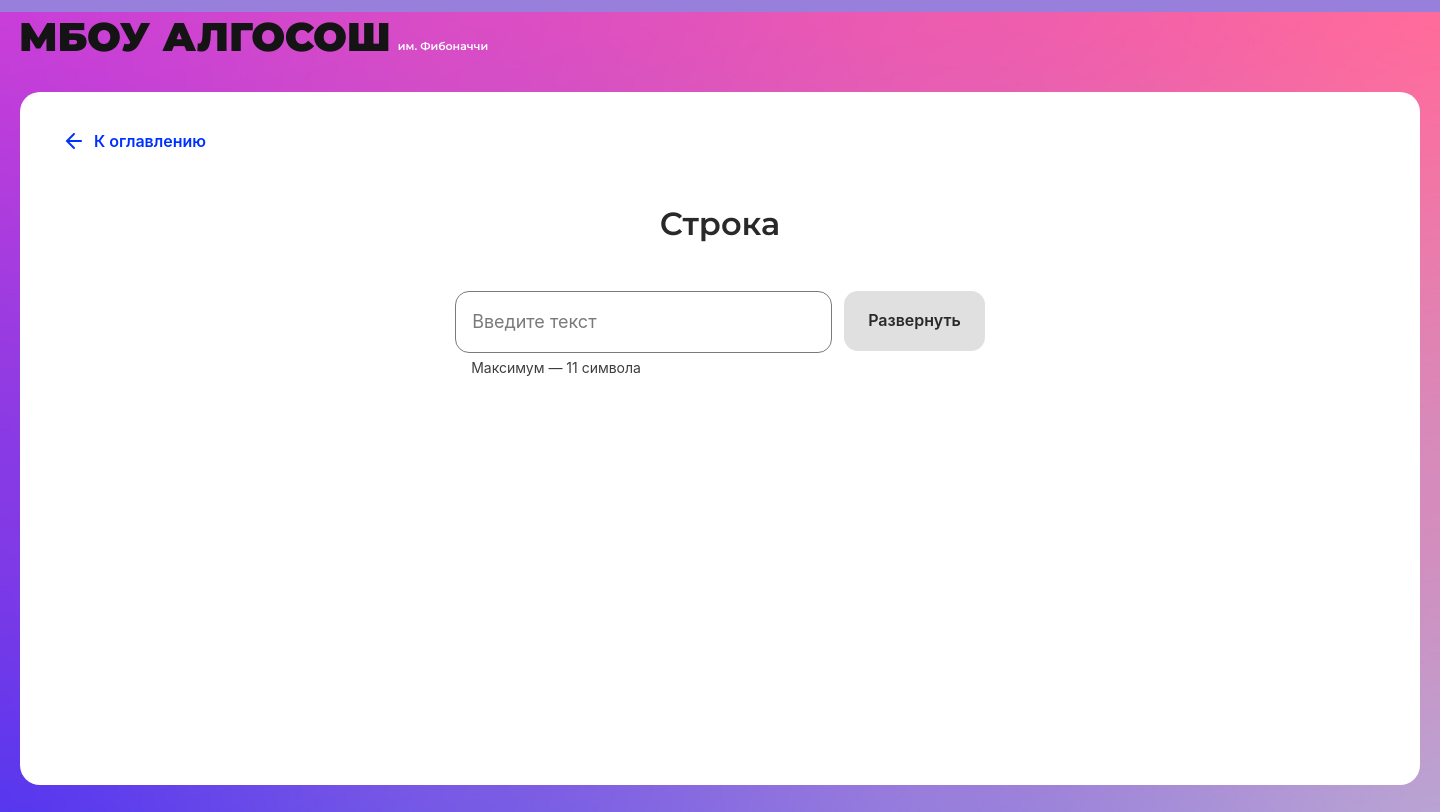
Test case: reverse string › reverse string
In the field with placeholder "Введите текст": (644, 322) [455,291,832,353], type "Aprel"
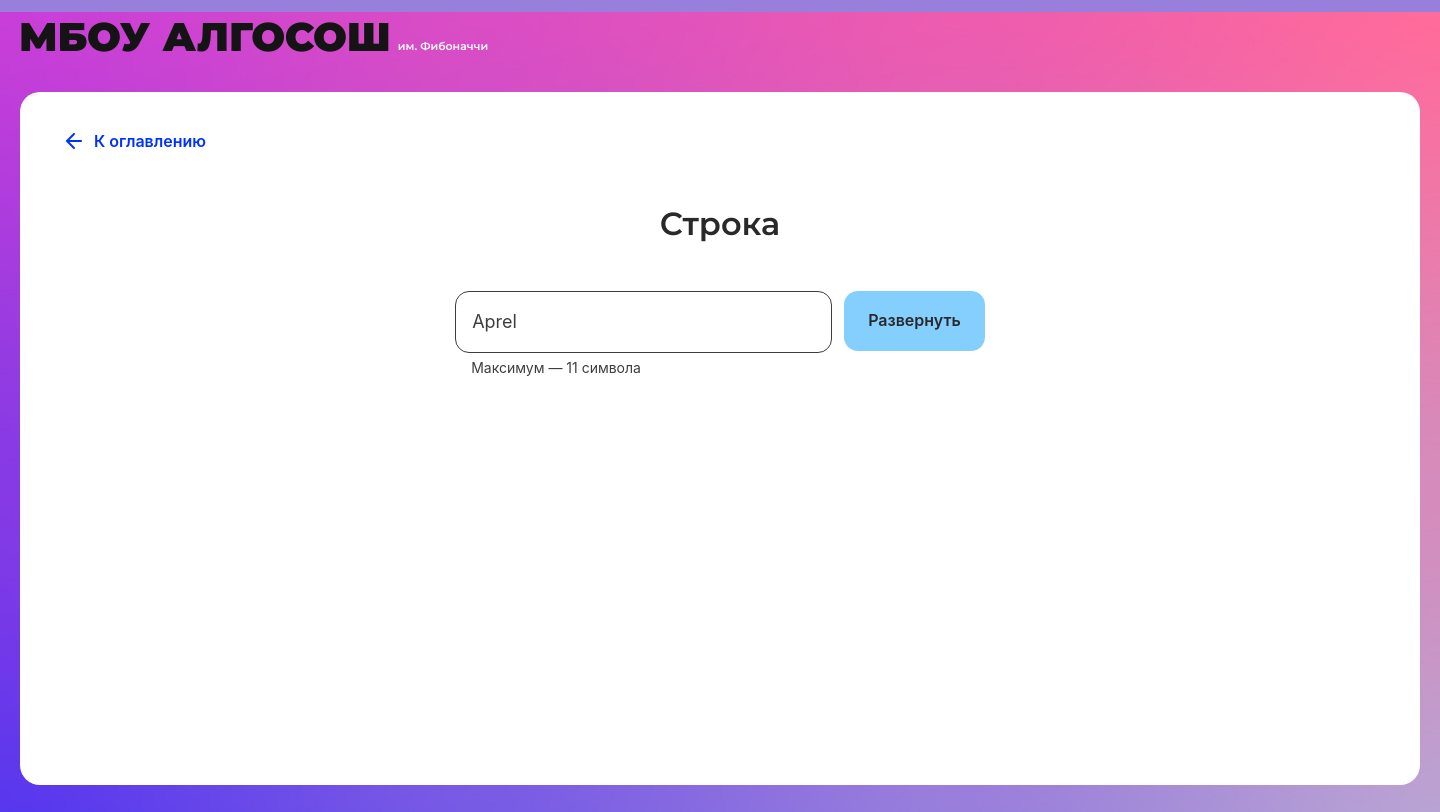
Now the button with test id "reverse" is enabled
Click the button with test id "reverse": (915, 321) [844,291,985,351]
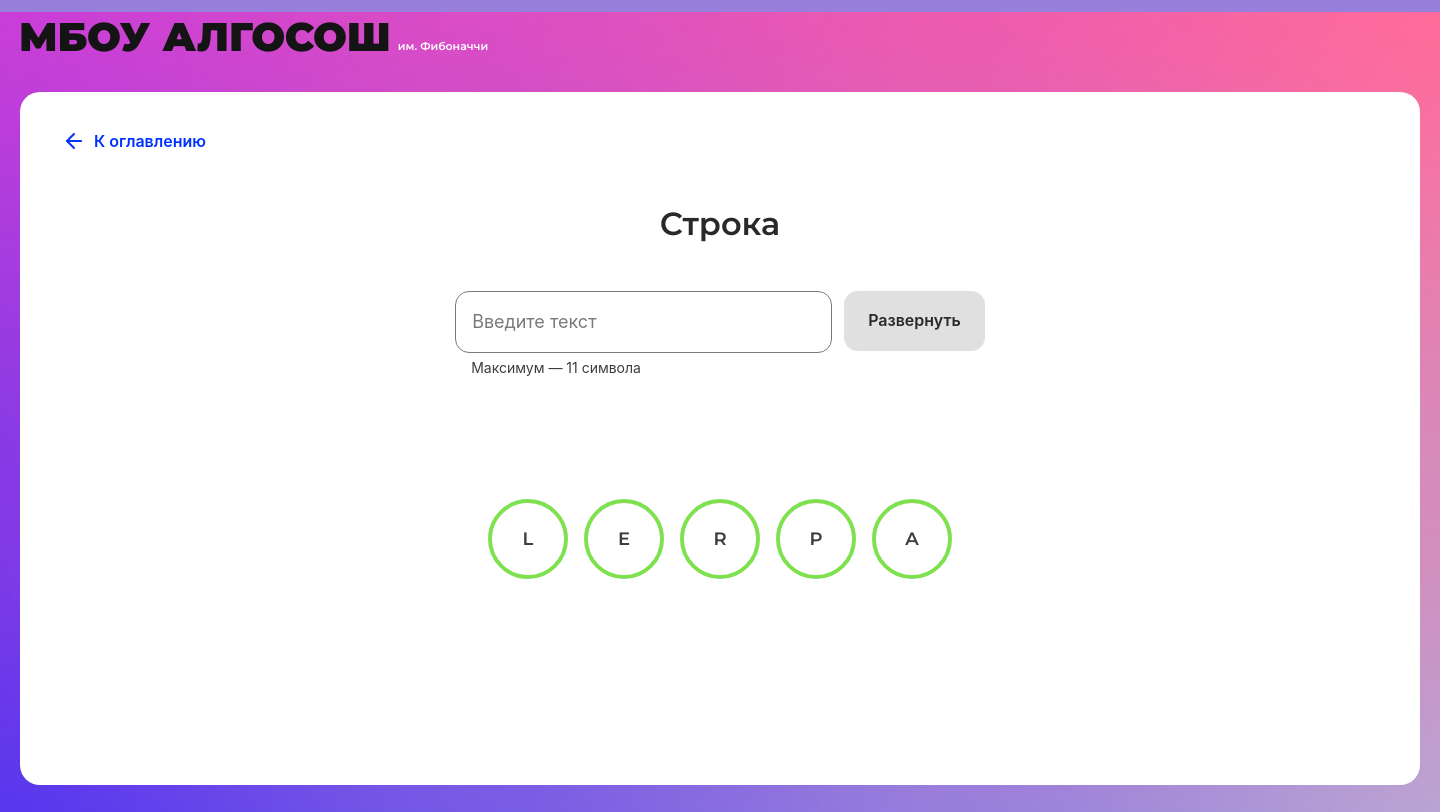
Now the number of elements with test id "circle" is 5, box [488,499,568,579]; [584,499,664,579]; [680,499,760,579]; [776,499,856,579]; [872,499,952,579]
Now the field with placeholder "Введите текст" is empty, box [455,291,832,353]
Now the button with test id "reverse" is disabled, box [844,291,985,351]
